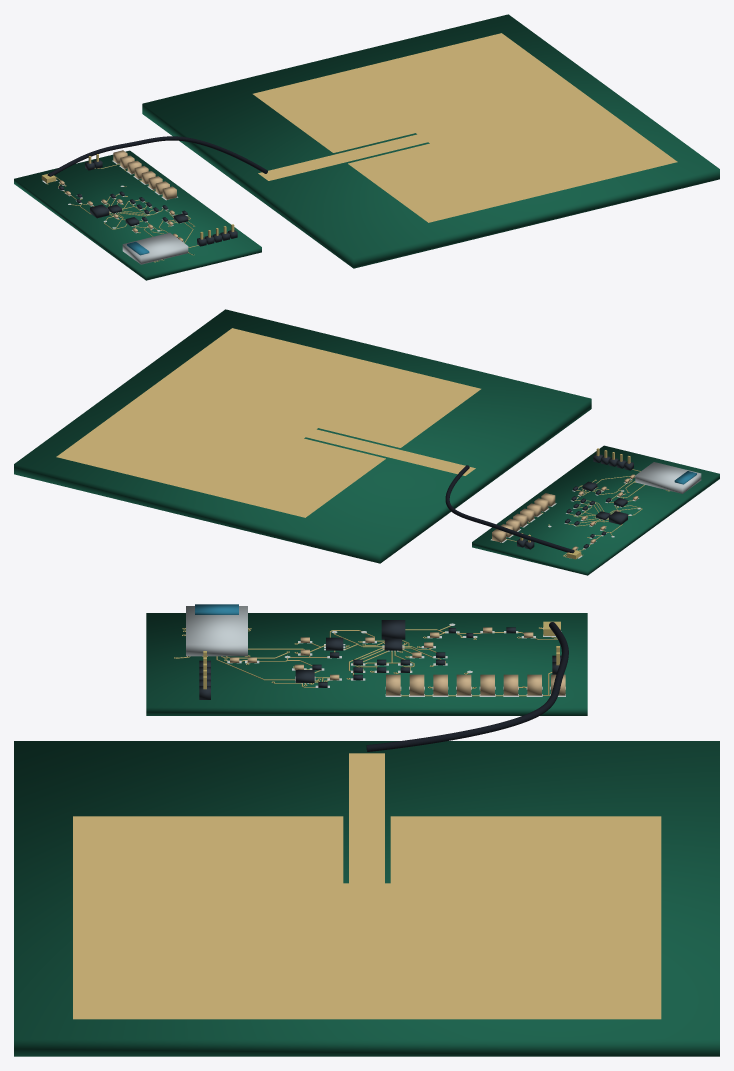
File: assembly_868.glb
The picture shows the model from 3 angles, top to bottom: view 1: azimuth 30°, elevation 25°; view 2: azimuth 150°, elevation 25°; view 3: azimuth 270°, elevation 25°; orthographic projection. The views are drawn at different scales.
Visible parts, largest first — view 1: Renderer Node; view 2: Renderer Node; view 3: Renderer Node.
Boxes of the visible parts, x1,y1,x2,y2 form: Renderer Node: (14,14,719,280); Renderer Node: (14,309,719,575); Renderer Node: (14,604,719,1056).
Size of the model in its own units: 0.175 by 0.00678 by 0.12.
